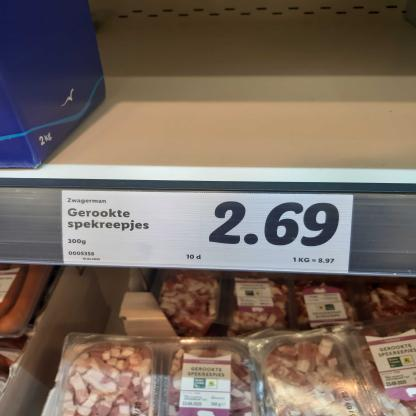prtg: (62, 192, 354, 275)
